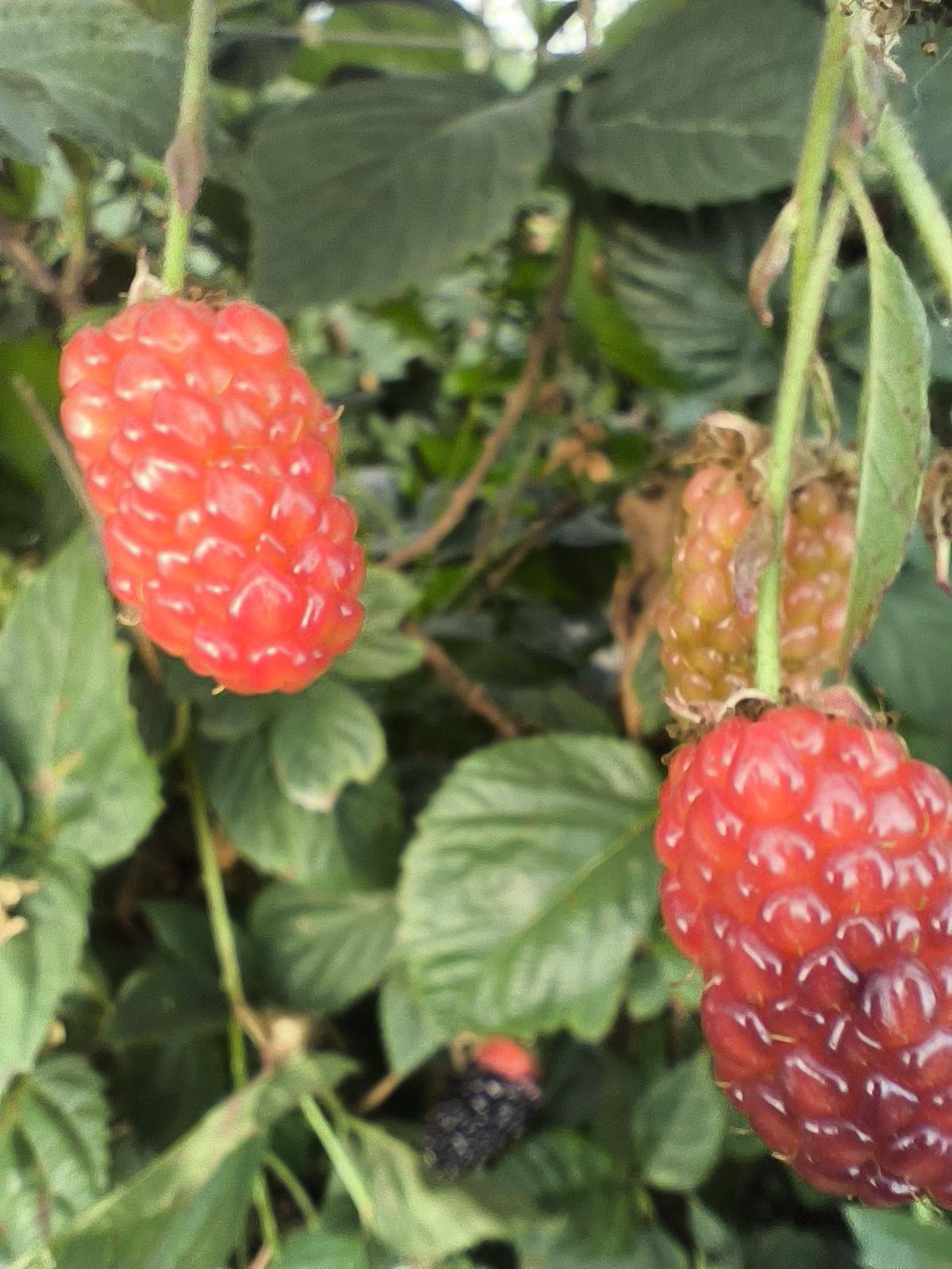marron: (654, 707, 951, 1207), (424, 1037, 540, 1175)
naranja: (60, 298, 363, 694)
